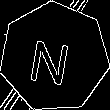N_N: (31, 29, 78, 86)
